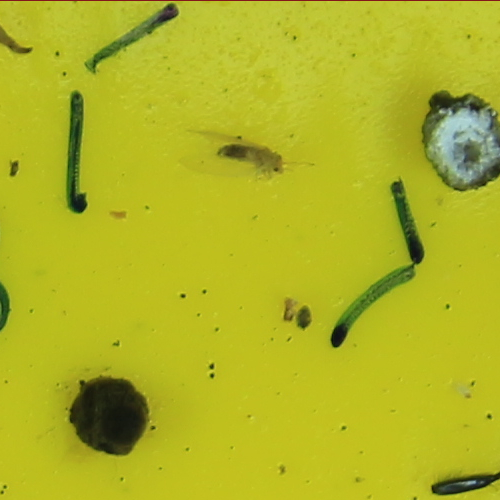psylla: (213, 138, 291, 173)
